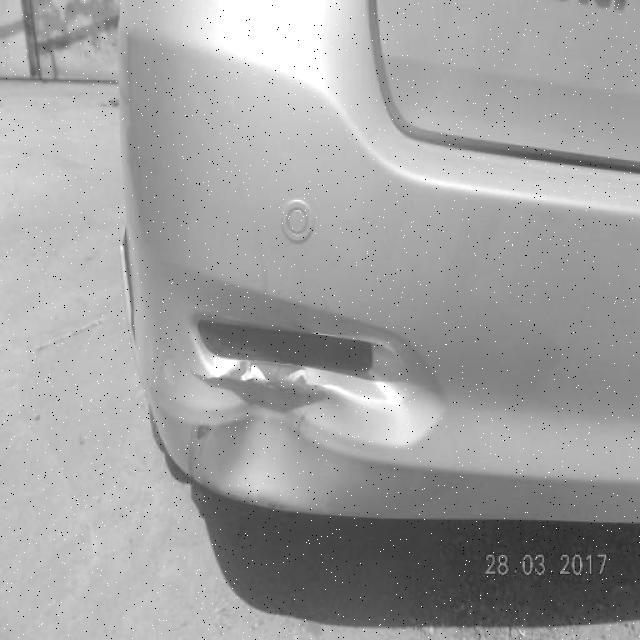car damage: (187, 356, 391, 511)
